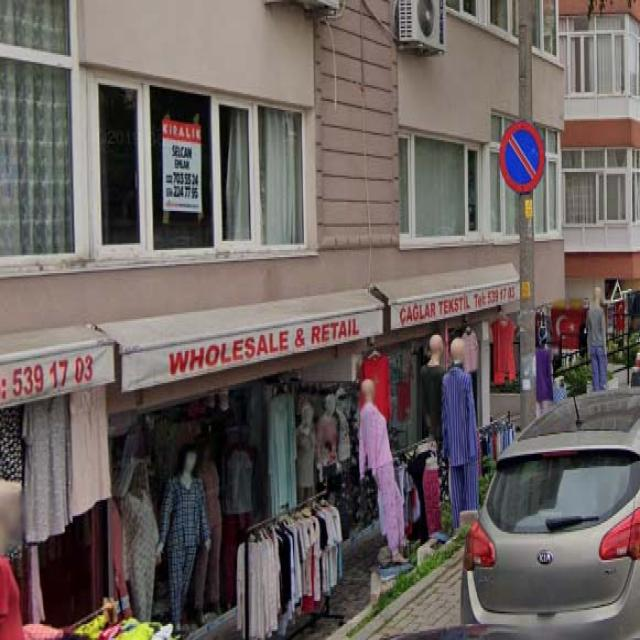parkyasak: (499, 122, 544, 192)
